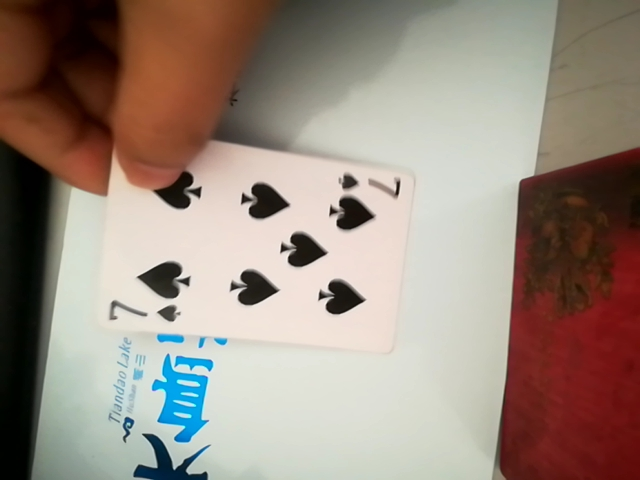ht 7: (76, 142, 419, 358)
